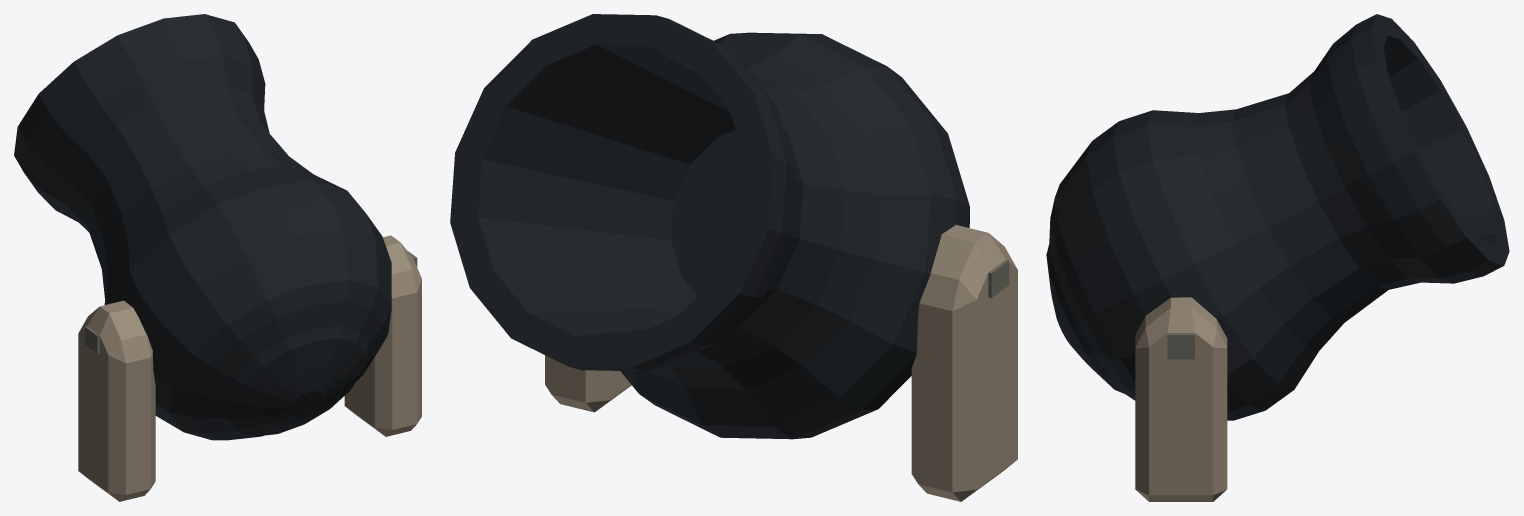
File: cannon.fbx
The picture shows the model from 3 angles, left to right: view 1: azimuth 30°, elevation 25°; view 2: azimuth 150°, elevation 25°; view 3: azimuth 270°, elevation 25°; orthographic projection. The views are drawn at different scales.
Visible parts, largest first — view 1: Cylinder, Cube; view 2: Cylinder, Cube; view 3: Cylinder, Cube.
Part boxes in pixels (x1,y1,x2,y2): Cylinder: [14, 14, 391, 440]; Cube: [78, 235, 421, 501]; Cylinder: [450, 14, 969, 439]; Cube: [545, 225, 1017, 501]; Cylinder: [1046, 14, 1509, 420]; Cube: [1135, 297, 1227, 501].
Bounding box in the file's own units: 1.66 × 1.84 × 1.94.
